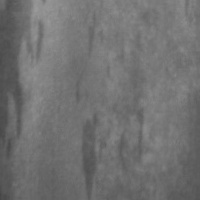inclusion: (1, 0, 46, 162), (109, 54, 150, 178), (79, 109, 108, 195), (84, 10, 106, 58), (74, 74, 89, 106)
